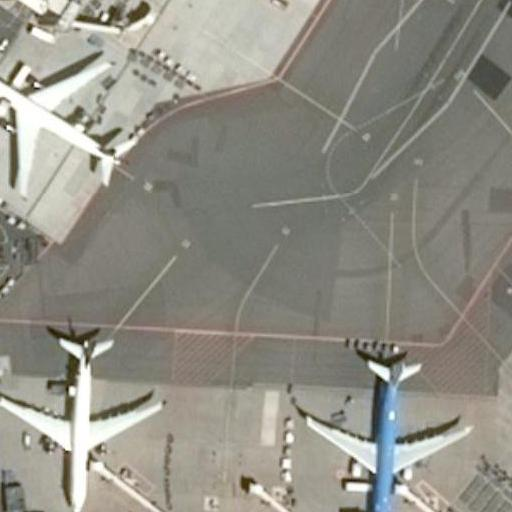Aircraft: (0, 331, 173, 512), (292, 346, 473, 512), (0, 57, 134, 194)
